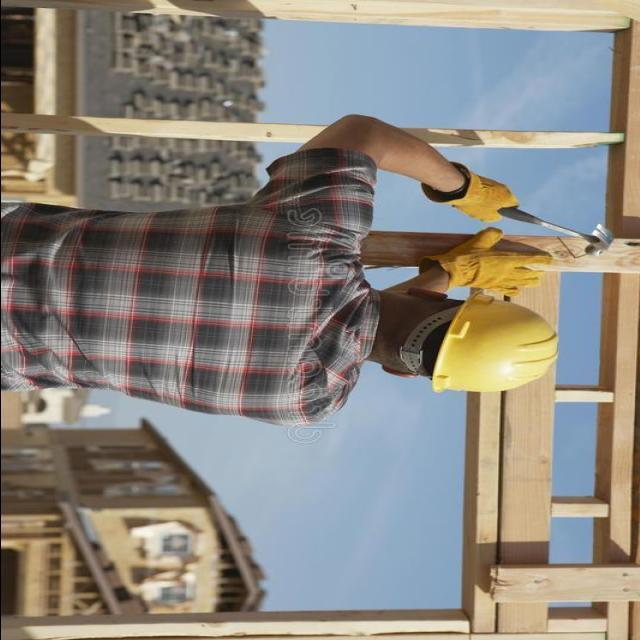helmet: (434, 287, 562, 405)
